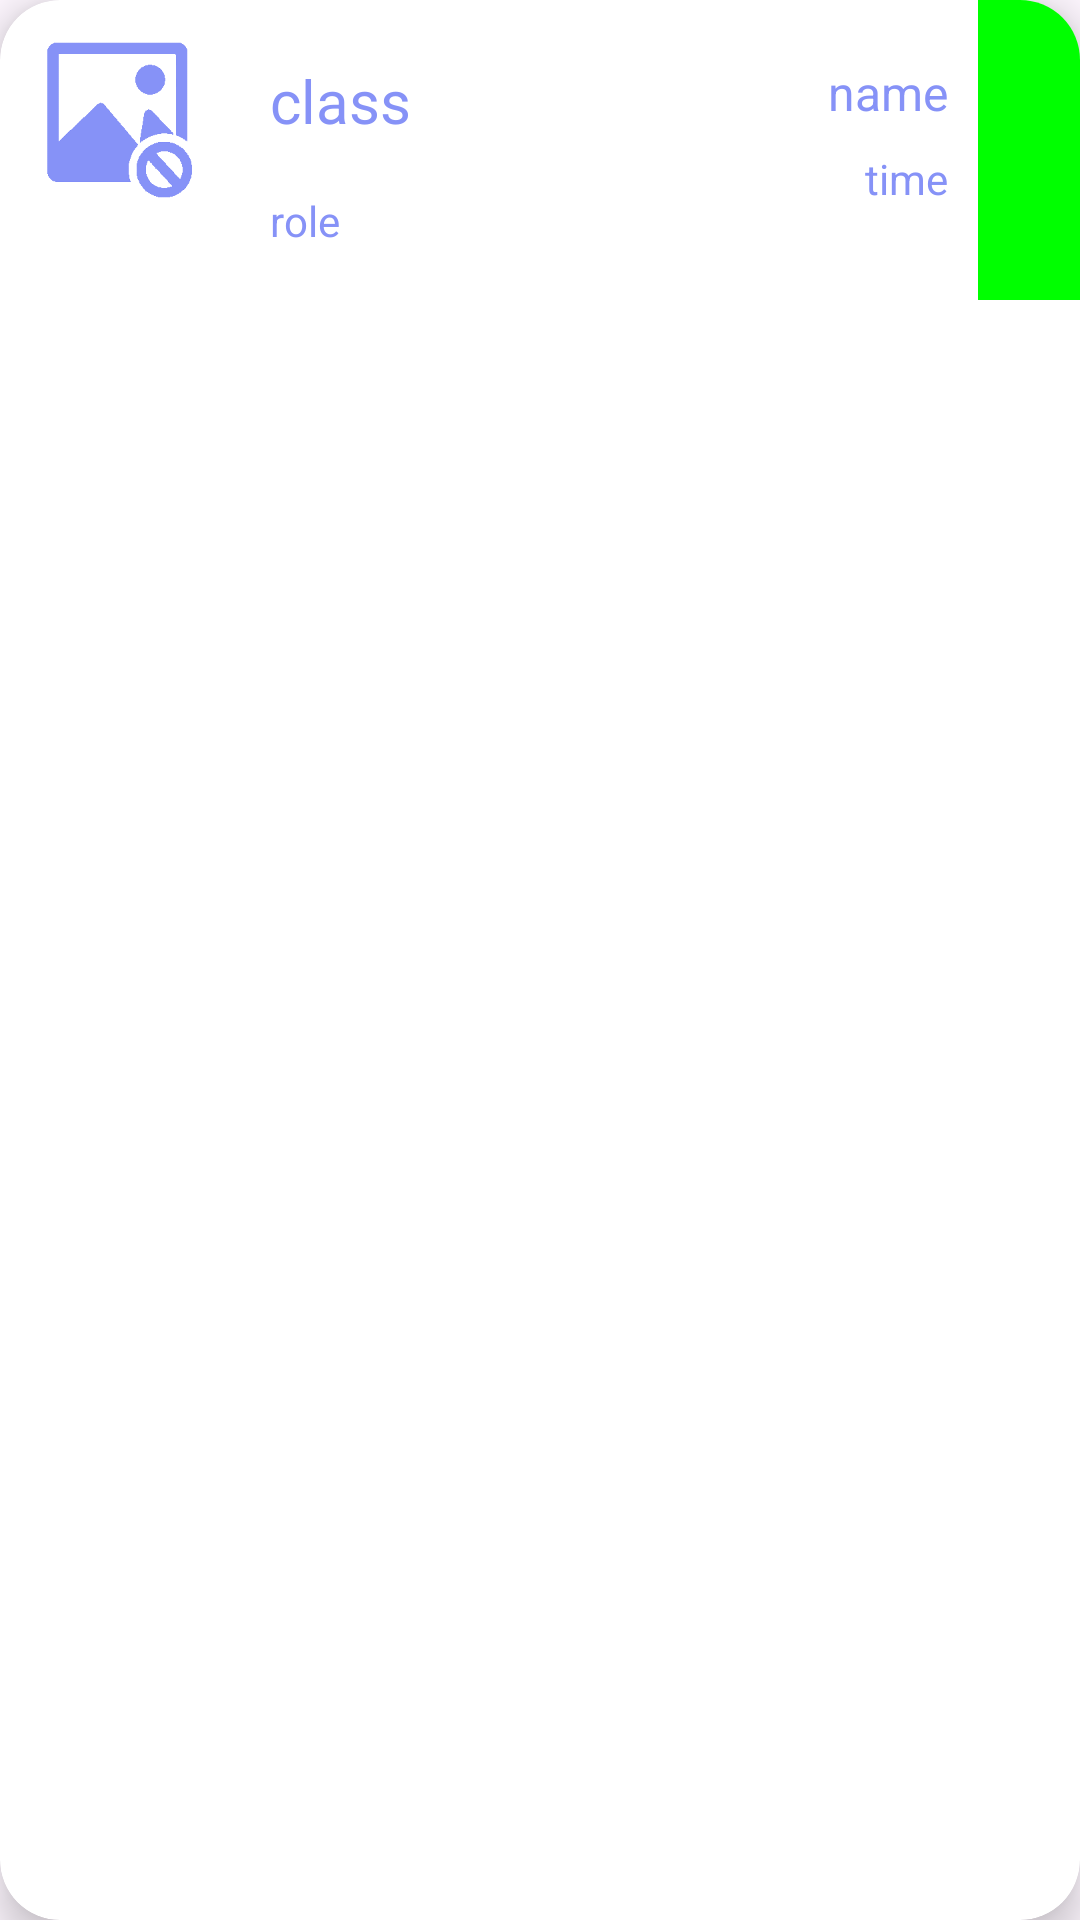

Where icons sit on this 1080x1920 app screen, as (x1, y1, x2, y2):
noimagecard: (47, 42, 192, 198)
